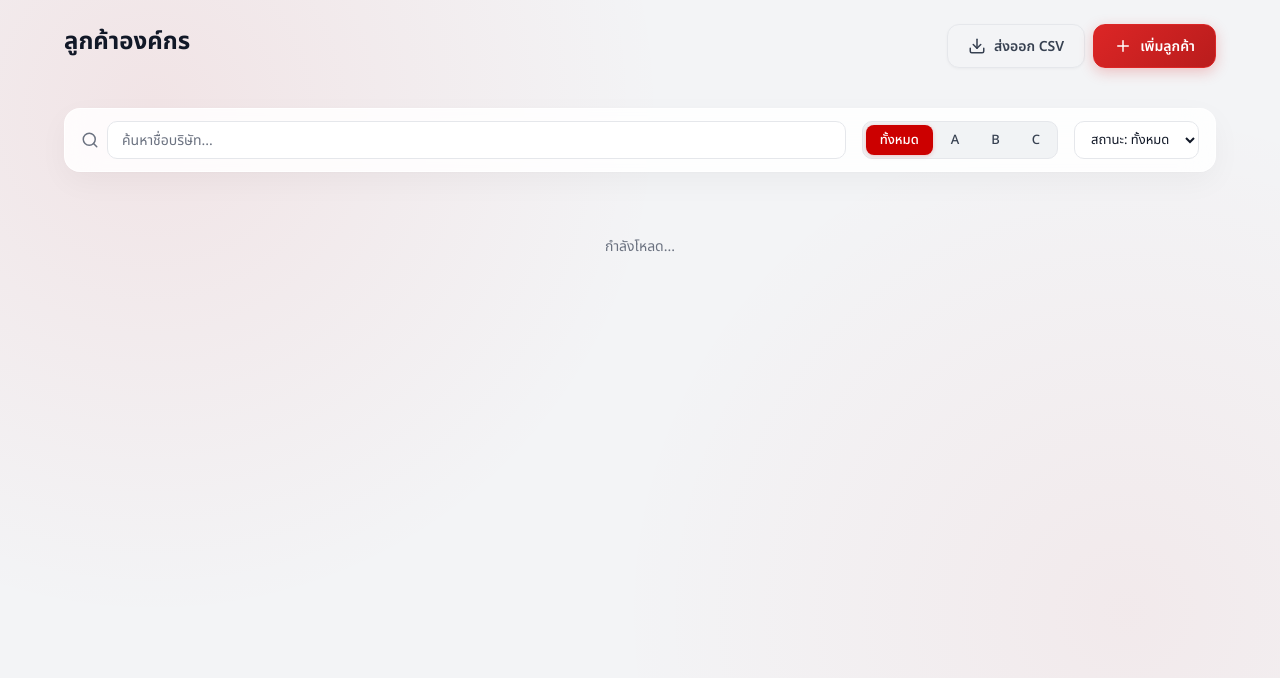
Customers › opens modal when Add Customer is clicked
The width and height of the screenshot is (1280, 678).
Click the button "เพิ่มลูกค้า".
click(1155, 46)  # box top-left (1093, 24), bottom-right (1216, 68)
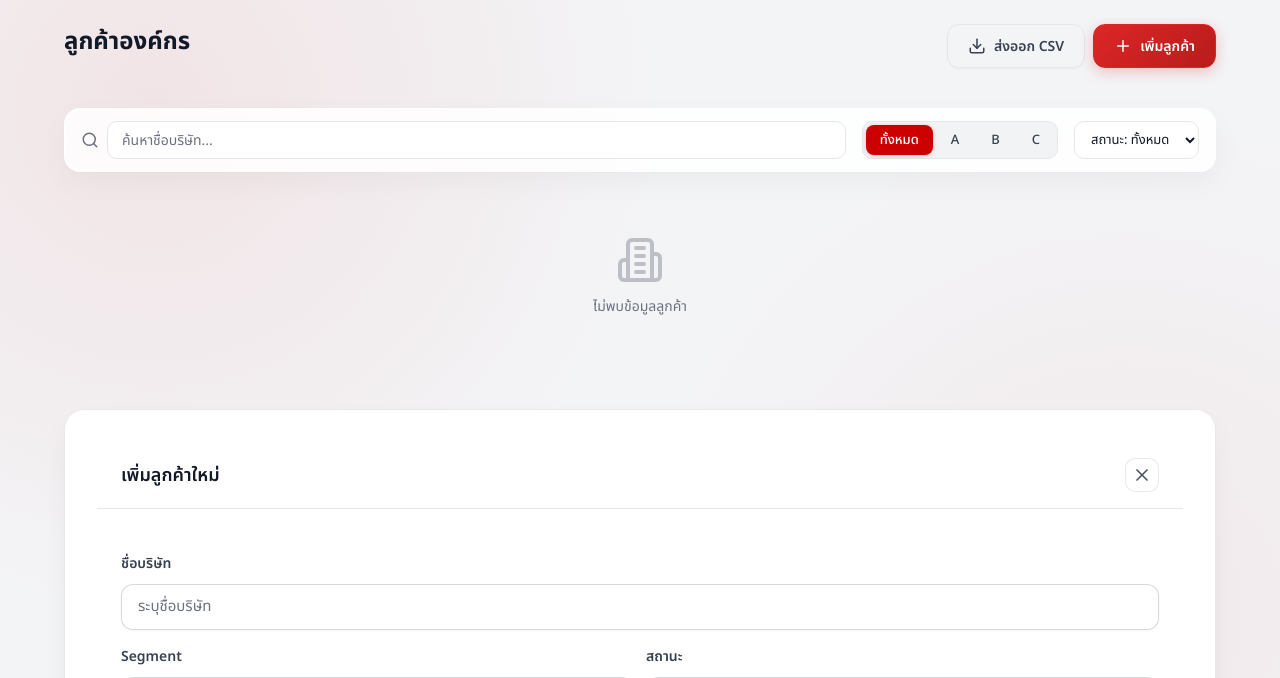
expect the heading "เพิ่มลูกค้าใหม่" is shown: met, box top-left (121, 462), bottom-right (220, 488)
expect the field labelled "ชื่อบริษัท" is shown: met, box top-left (121, 584), bottom-right (1159, 630)
